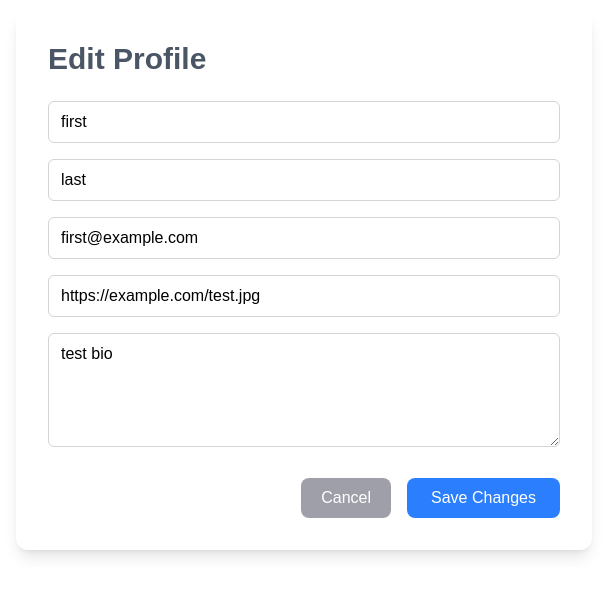
Test case: EditProfileForm › shows error if no changes are made
Click the button "Save Changes": point(484, 498) [407,478,560,518]
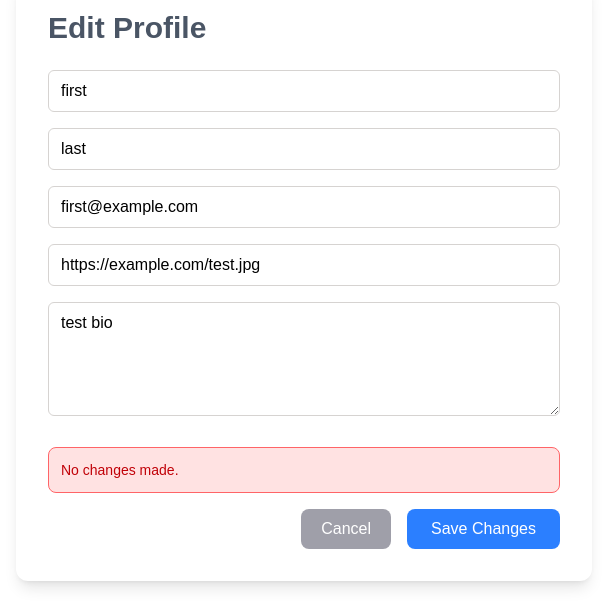
Expected: the text "No changes made." is shown, [61,462,178,478]
